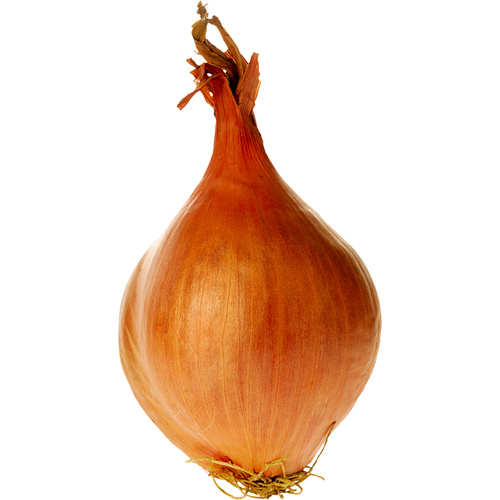onion: (116, 0, 382, 498)
